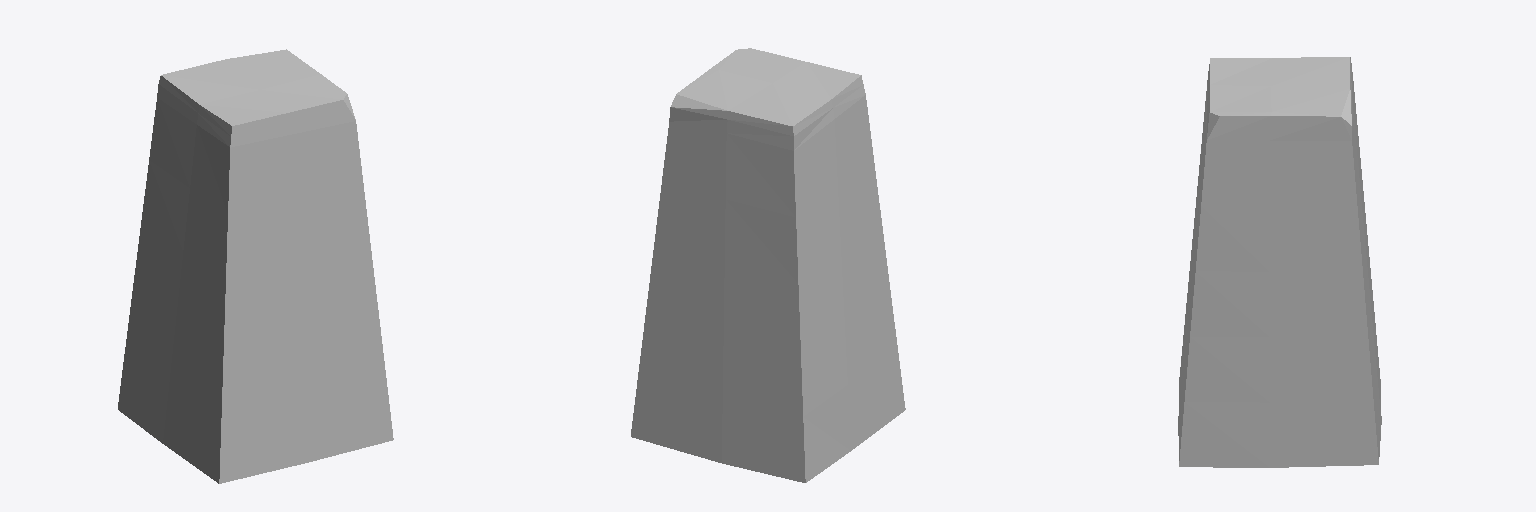
The model's file is piedistallo.obj.
3 views of the same model, side by side, from view 1: azimuth 30°, elevation 25°; view 2: azimuth 150°, elevation 25°; view 3: azimuth 270°, elevation 25° (orthographic).
Parts seen in each view (by area): view 1: piedistallo_low002; view 2: piedistallo_low002; view 3: piedistallo_low002.
Part boxes in pixels (x1,y1,x2,y2): piedistallo_low002: (118, 49, 393, 483); piedistallo_low002: (631, 48, 905, 482); piedistallo_low002: (1178, 57, 1381, 467).
Bounding box in the file's own units: 0.5954 × 1.1 × 0.5946.